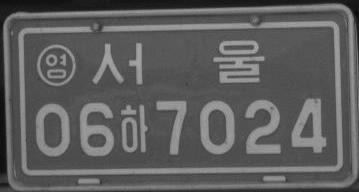0: (199, 99, 236, 155), (35, 102, 70, 158)
2: (245, 97, 282, 154)
4: (291, 97, 327, 153)
6: (79, 101, 114, 158)
7: (155, 99, 187, 155)
서울_D: (92, 39, 264, 86)
영: (36, 43, 76, 87)
하: (120, 102, 148, 153)
